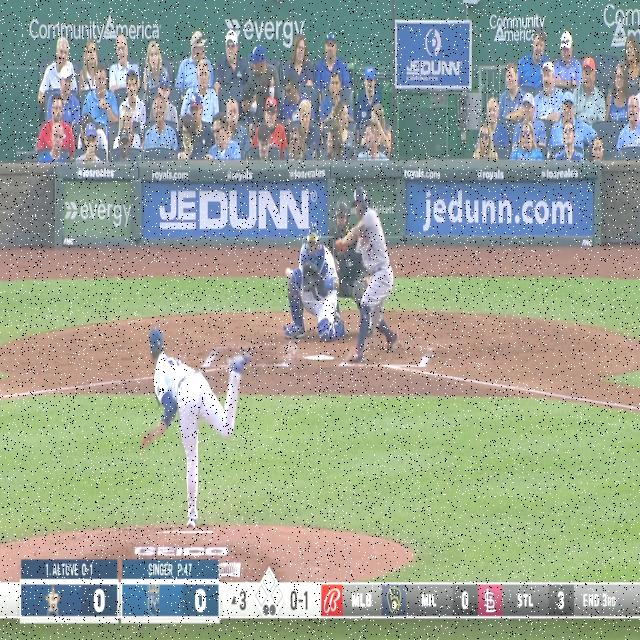baseball: (285, 267, 291, 277)
